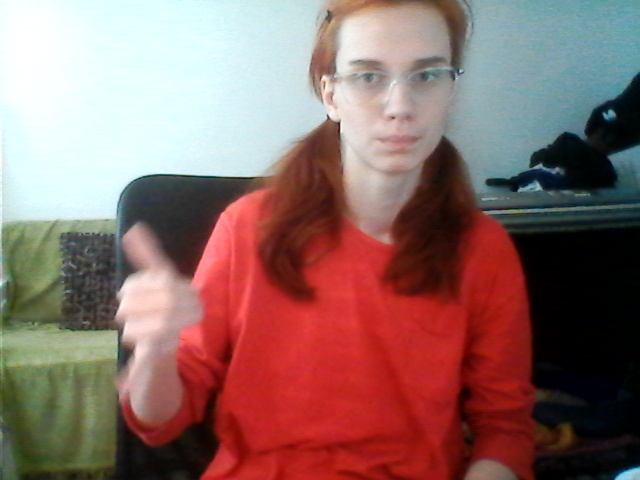ano: (104, 217, 209, 405)
